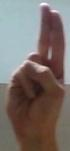U: (1, 1, 70, 151)
